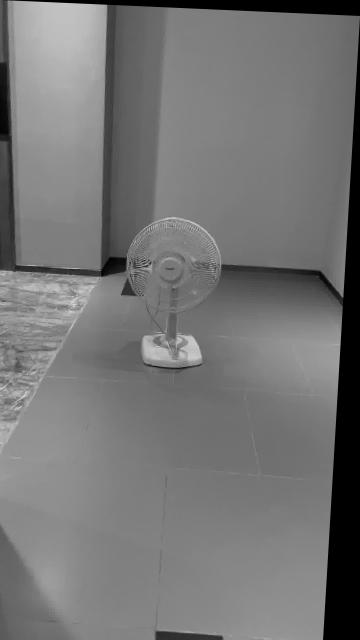Fan: (129, 215, 225, 367)
